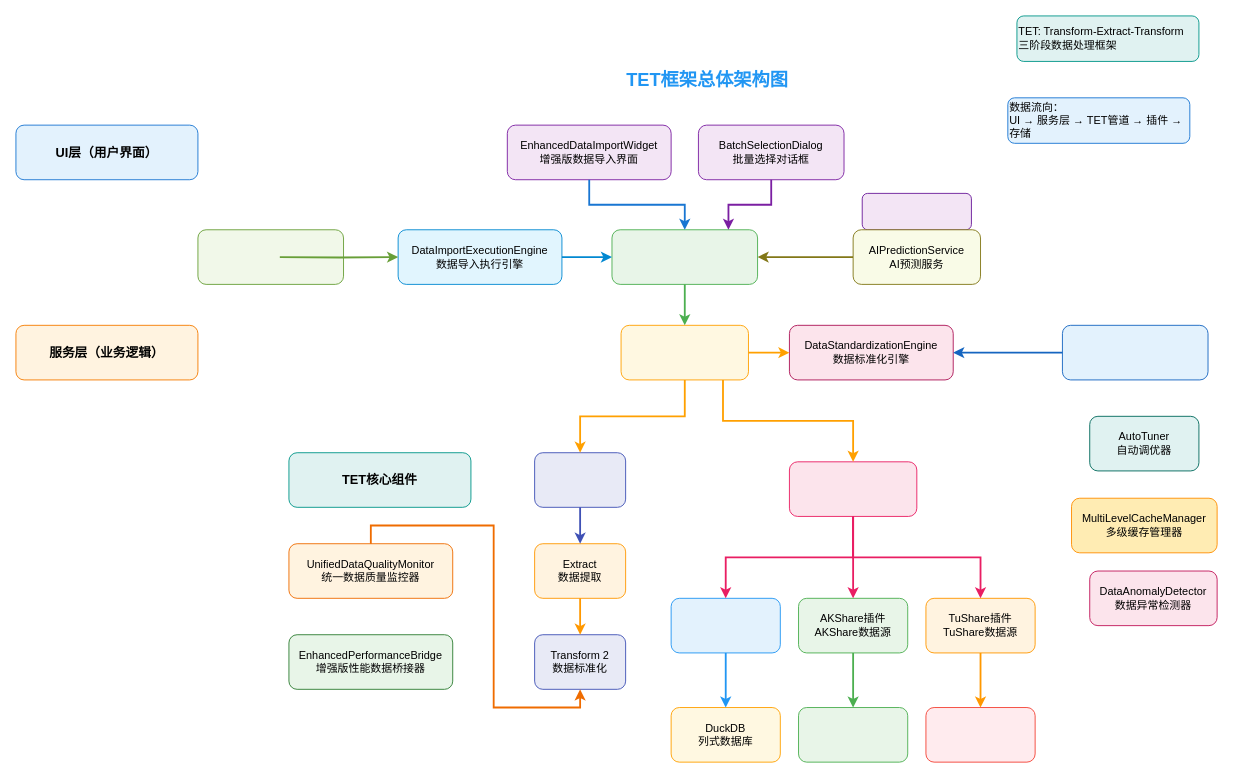
Image size: 1233x778. Some labels were removed from this diagram. The centre of each missing label's shape, as x and y in pixels:
"AI智能化层" belongs at pixel 916 211.
"DataSourceRouter 数据源路由器" belongs at pixel 853 488.
"EnhancedDistributedService 增强版分布式服务" belongs at pixel 1135 352.
"FactorWeave-Quant数据库 K线数据存储" belongs at pixel 853 734.
"ImportConfigManager 导入配置管理器" belongs at pixel 270 256.
"Redis缓存 高速缓存" belongs at pixel 980 734.
"TDX插件 通达信数据源" belongs at pixel 725 625.
"TETDataPipeline TET数据管道" belongs at pixel 684 352.
"Transform 1 查询转换" belongs at pixel 580 479.
"UnifiedDataManager 统一数据管理器" belongs at pixel 684 256.
